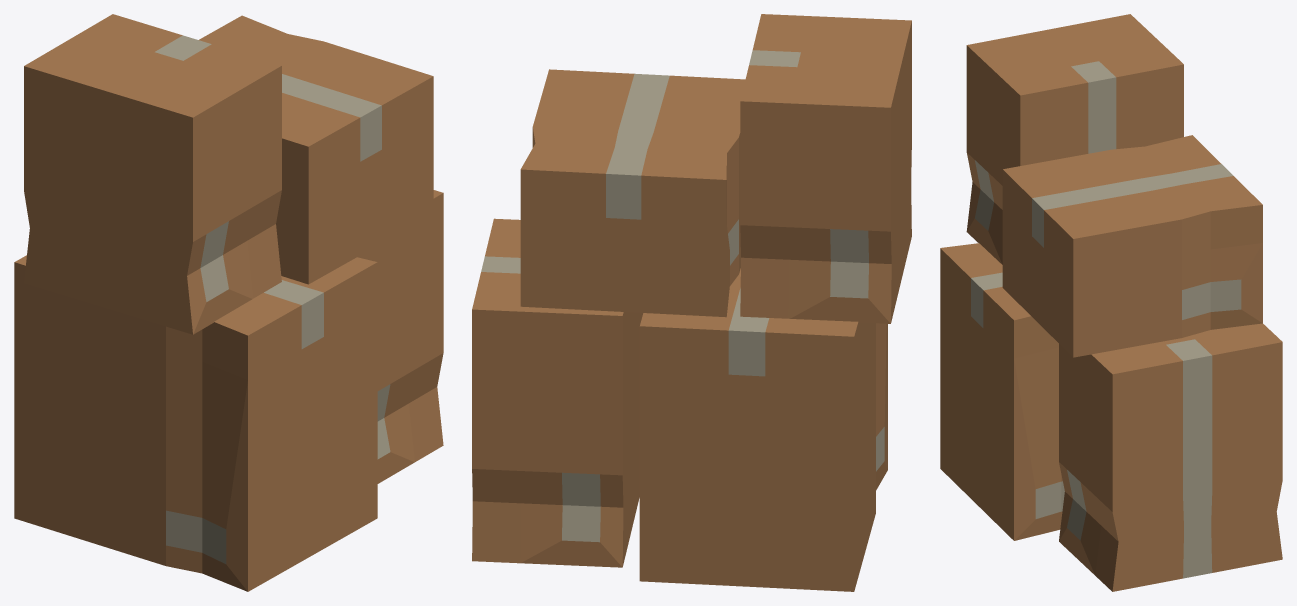
File: Boxes_Obs.fbx
3 renders of one model, left to right at view 1: azimuth 30°, elevation 25°; view 2: azimuth 150°, elevation 25°; view 3: azimuth 270°, elevation 25°, orthographic. The views are drawn at different scales.
Visible parts, largest first — view 1: CardboardBoxes_4.001; view 2: CardboardBoxes_4.001; view 3: CardboardBoxes_4.001.
Boxes of the visible parts, x1,y1,x2,y2 form: CardboardBoxes_4.001: (14, 14, 443, 591); CardboardBoxes_4.001: (472, 14, 911, 591); CardboardBoxes_4.001: (940, 14, 1282, 591).
Size of the model in its own units: 47.49 by 52.41 by 40.
